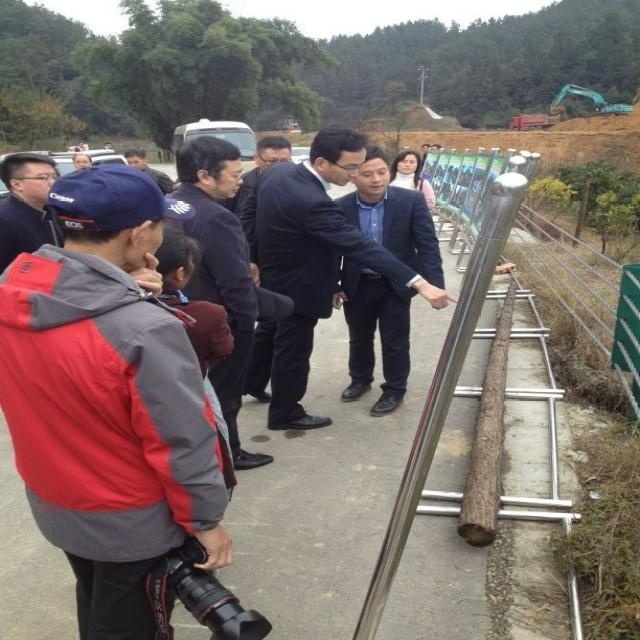Sin_Casco_Mascarrilla: (174, 135, 244, 197), (311, 124, 367, 187)
Sin_Chaleco: (0, 249, 225, 530)
